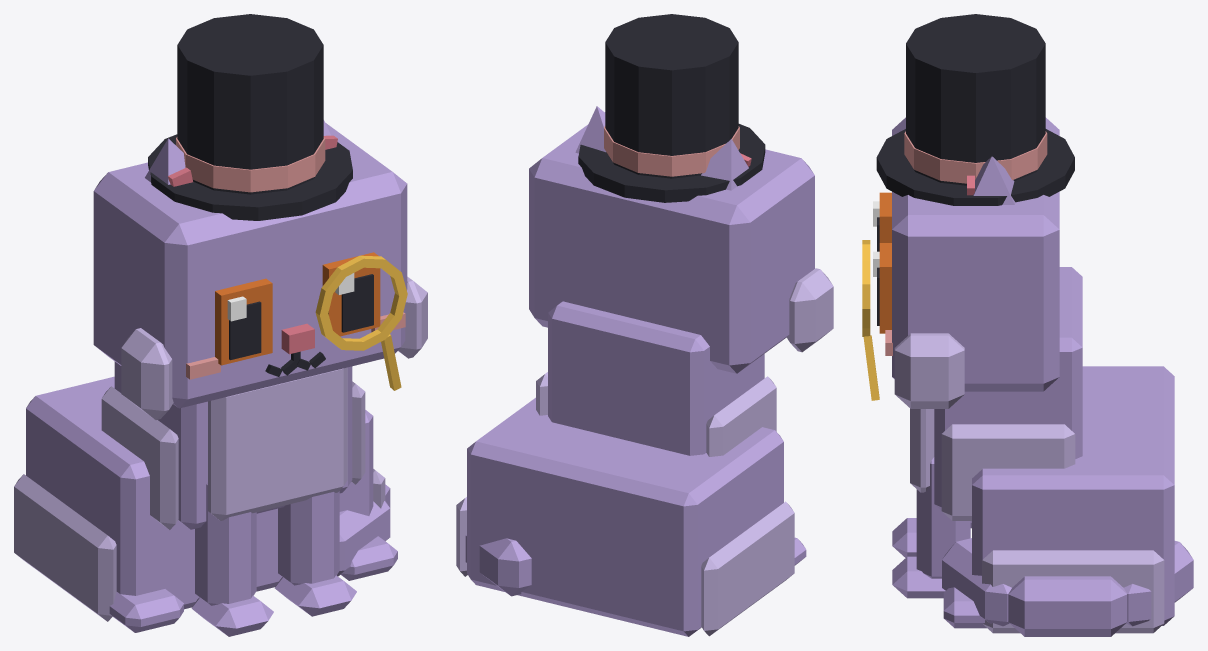
File: CatCafe_Cat_Persian_Sit.glb
The picture shows the model from 3 angles, left to right: view 1: azimuth 30°, elevation 25°; view 2: azimuth 150°, elevation 25°; view 3: azimuth 270°, elevation 25°; orthographic projection. The views are drawn at different scales.
Visible parts, largest first — view 1: CatCafe_Cat_Persian_Sit_Body, CatCafe_Cat_Persian_Sit_Head, CatCafe_Cat_Persian_Sit_Prop, CatCafe_Cat_Persian_Sit_LegF2, CatCafe_Cat_Persian_Sit_LegF1, CatCafe_Cat_Persian_Sit_Eye2, CatCafe_Cat_Persian_Sit_Eye1, CatCafe_Cat_Persian_Sit_Tail, CatCafe_Cat_Persian_Sit_EarR; view 2: CatCafe_Cat_Persian_Sit_Body, CatCafe_Cat_Persian_Sit_Head, CatCafe_Cat_Persian_Sit_Prop, CatCafe_Cat_Persian_Sit_Tail, CatCafe_Cat_Persian_Sit_EarR, CatCafe_Cat_Persian_Sit_EarL; view 3: CatCafe_Cat_Persian_Sit_Body, CatCafe_Cat_Persian_Sit_Head, CatCafe_Cat_Persian_Sit_Prop, CatCafe_Cat_Persian_Sit_Tail, CatCafe_Cat_Persian_Sit_LegF1, CatCafe_Cat_Persian_Sit_Eye1, CatCafe_Cat_Persian_Sit_EarL, CatCafe_Cat_Persian_Sit_Eye2, CatCafe_Cat_Persian_Sit_LegF2.
Boxes of the visible parts, bbox=[...] form: CatCafe_Cat_Persian_Sit_Body: bbox=[14, 361, 397, 632]; CatCafe_Cat_Persian_Sit_Head: bbox=[93, 122, 427, 419]; CatCafe_Cat_Persian_Sit_Prop: bbox=[148, 14, 407, 390]; CatCafe_Cat_Persian_Sit_LegF2: bbox=[191, 482, 273, 636]; CatCafe_Cat_Persian_Sit_LegF1: bbox=[274, 491, 356, 616]; CatCafe_Cat_Persian_Sit_Eye2: bbox=[215, 278, 272, 365]; CatCafe_Cat_Persian_Sit_Eye1: bbox=[322, 252, 380, 336]; CatCafe_Cat_Persian_Sit_Tail: bbox=[337, 484, 390, 576]; CatCafe_Cat_Persian_Sit_EarR: bbox=[145, 138, 192, 186]; CatCafe_Cat_Persian_Sit_Body: bbox=[456, 301, 806, 636]; CatCafe_Cat_Persian_Sit_Head: bbox=[529, 112, 833, 373]; CatCafe_Cat_Persian_Sit_Prop: bbox=[578, 14, 765, 202]; CatCafe_Cat_Persian_Sit_Tail: bbox=[465, 535, 531, 596]; CatCafe_Cat_Persian_Sit_EarR: bbox=[701, 139, 751, 190]; CatCafe_Cat_Persian_Sit_EarL: bbox=[575, 106, 605, 153]; CatCafe_Cat_Persian_Sit_Body: bbox=[910, 267, 1174, 633]; CatCafe_Cat_Persian_Sit_Head: bbox=[885, 117, 1059, 408]; CatCafe_Cat_Persian_Sit_Prop: bbox=[862, 14, 1074, 400]; CatCafe_Cat_Persian_Sit_Tail: bbox=[942, 538, 1193, 636]; CatCafe_Cat_Persian_Sit_LegF1: bbox=[892, 457, 970, 598]; CatCafe_Cat_Persian_Sit_Eye1: bbox=[873, 243, 891, 333]; CatCafe_Cat_Persian_Sit_EarL: bbox=[967, 156, 1015, 204]; CatCafe_Cat_Persian_Sit_Eye2: bbox=[873, 192, 891, 251]; CatCafe_Cat_Persian_Sit_LegF2: bbox=[892, 518, 916, 557].
Bounding box in the file's own units: 1.2 × 2.05 × 1.17.
Materials: 1 (1 with a texture image).
